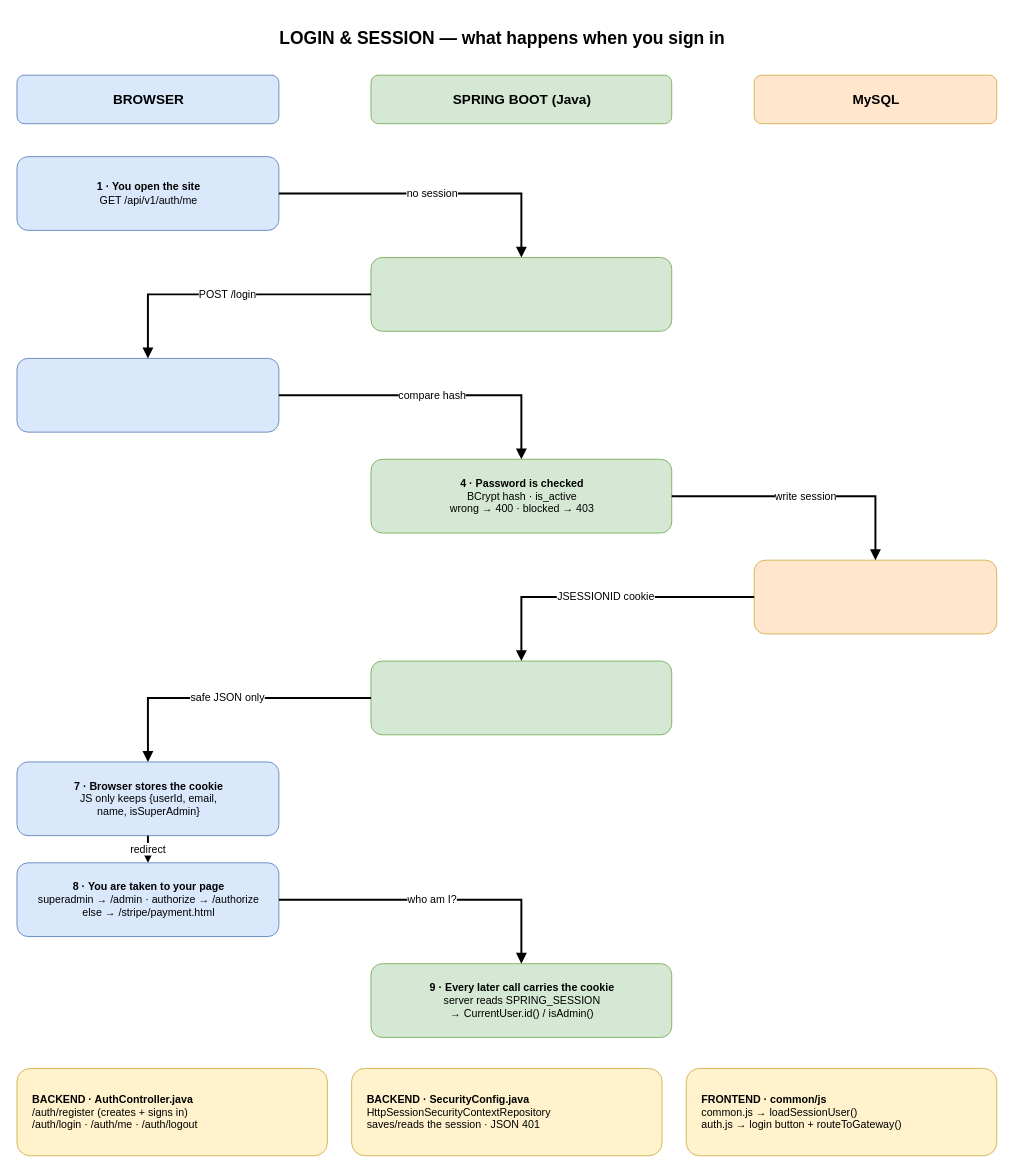
This 1014x1173 diagram has some shape labels left out. The box of each missing label's shape, as (x1, y1, x2, y2) in pixels:
2 · Nobody is signed in answer 401 + message: (370, 257, 672, 331)
3 · You type email + password POST /api/v1/auth/login: (16, 357, 279, 432)
5 · Session is written row in SPRING_SESSION = this browser is user X: (753, 559, 997, 634)
6 · The reply sets the cookie Set-Cookie: JSESSIONID HttpOnly · 30 min: (370, 660, 672, 735)
